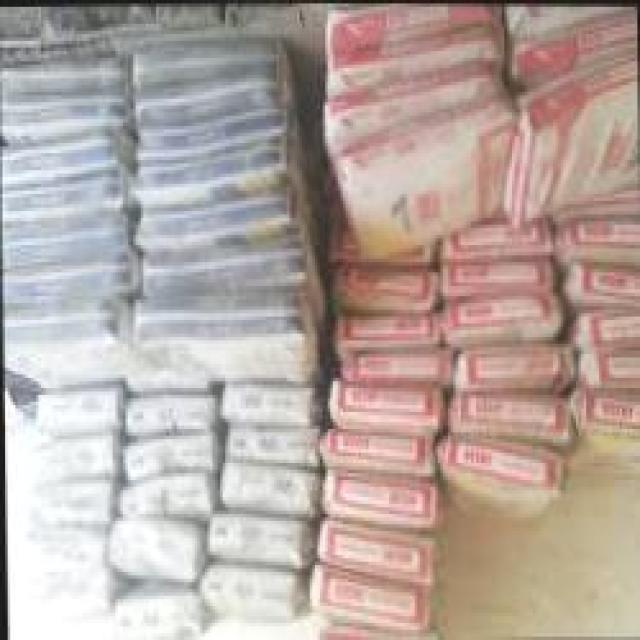gunny_bag: (325, 87, 515, 267), (503, 48, 639, 233), (128, 292, 325, 387), (319, 56, 502, 151), (323, 17, 509, 97), (135, 224, 317, 297), (136, 125, 293, 204), (132, 183, 303, 250), (506, 5, 637, 92), (133, 90, 300, 157), (443, 426, 566, 504), (131, 31, 284, 91), (323, 3, 500, 51), (126, 67, 280, 122), (314, 557, 423, 631), (1, 211, 129, 274), (1, 248, 135, 308), (1, 292, 133, 350), (321, 513, 426, 584), (1, 170, 133, 224), (325, 464, 434, 529), (0, 84, 126, 139), (454, 331, 572, 389), (1, 125, 112, 180), (453, 387, 562, 441), (322, 423, 430, 475), (441, 294, 561, 340), (114, 579, 204, 640), (109, 514, 196, 575), (217, 376, 311, 432), (122, 463, 211, 521), (31, 568, 111, 632), (206, 565, 297, 621), (35, 380, 117, 440), (338, 380, 435, 430), (340, 254, 435, 305), (213, 511, 299, 565), (439, 215, 542, 260), (0, 59, 127, 94), (30, 437, 115, 485), (225, 462, 308, 511), (335, 310, 435, 349), (572, 252, 640, 308), (344, 347, 444, 383), (231, 424, 313, 466), (128, 394, 211, 435), (560, 211, 640, 253), (509, 4, 636, 30), (448, 262, 549, 294), (34, 487, 107, 531), (582, 378, 640, 431), (583, 343, 640, 386)
